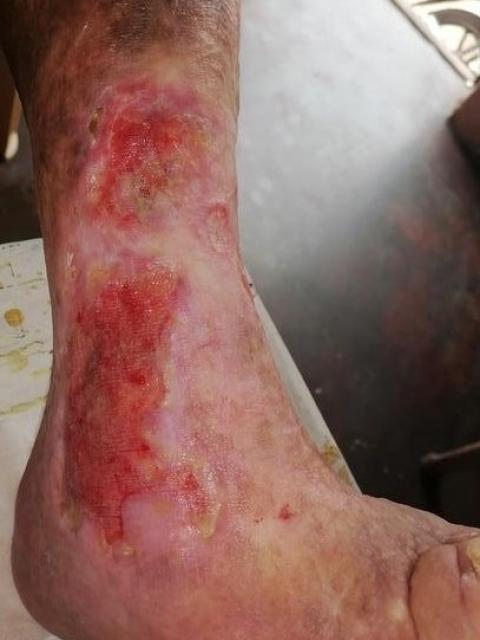wound: (56, 245, 224, 563), (66, 78, 233, 234), (204, 203, 253, 300)
